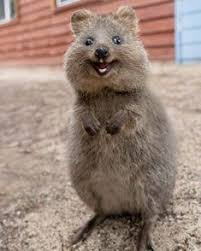quokka: (61, 8, 183, 251)
